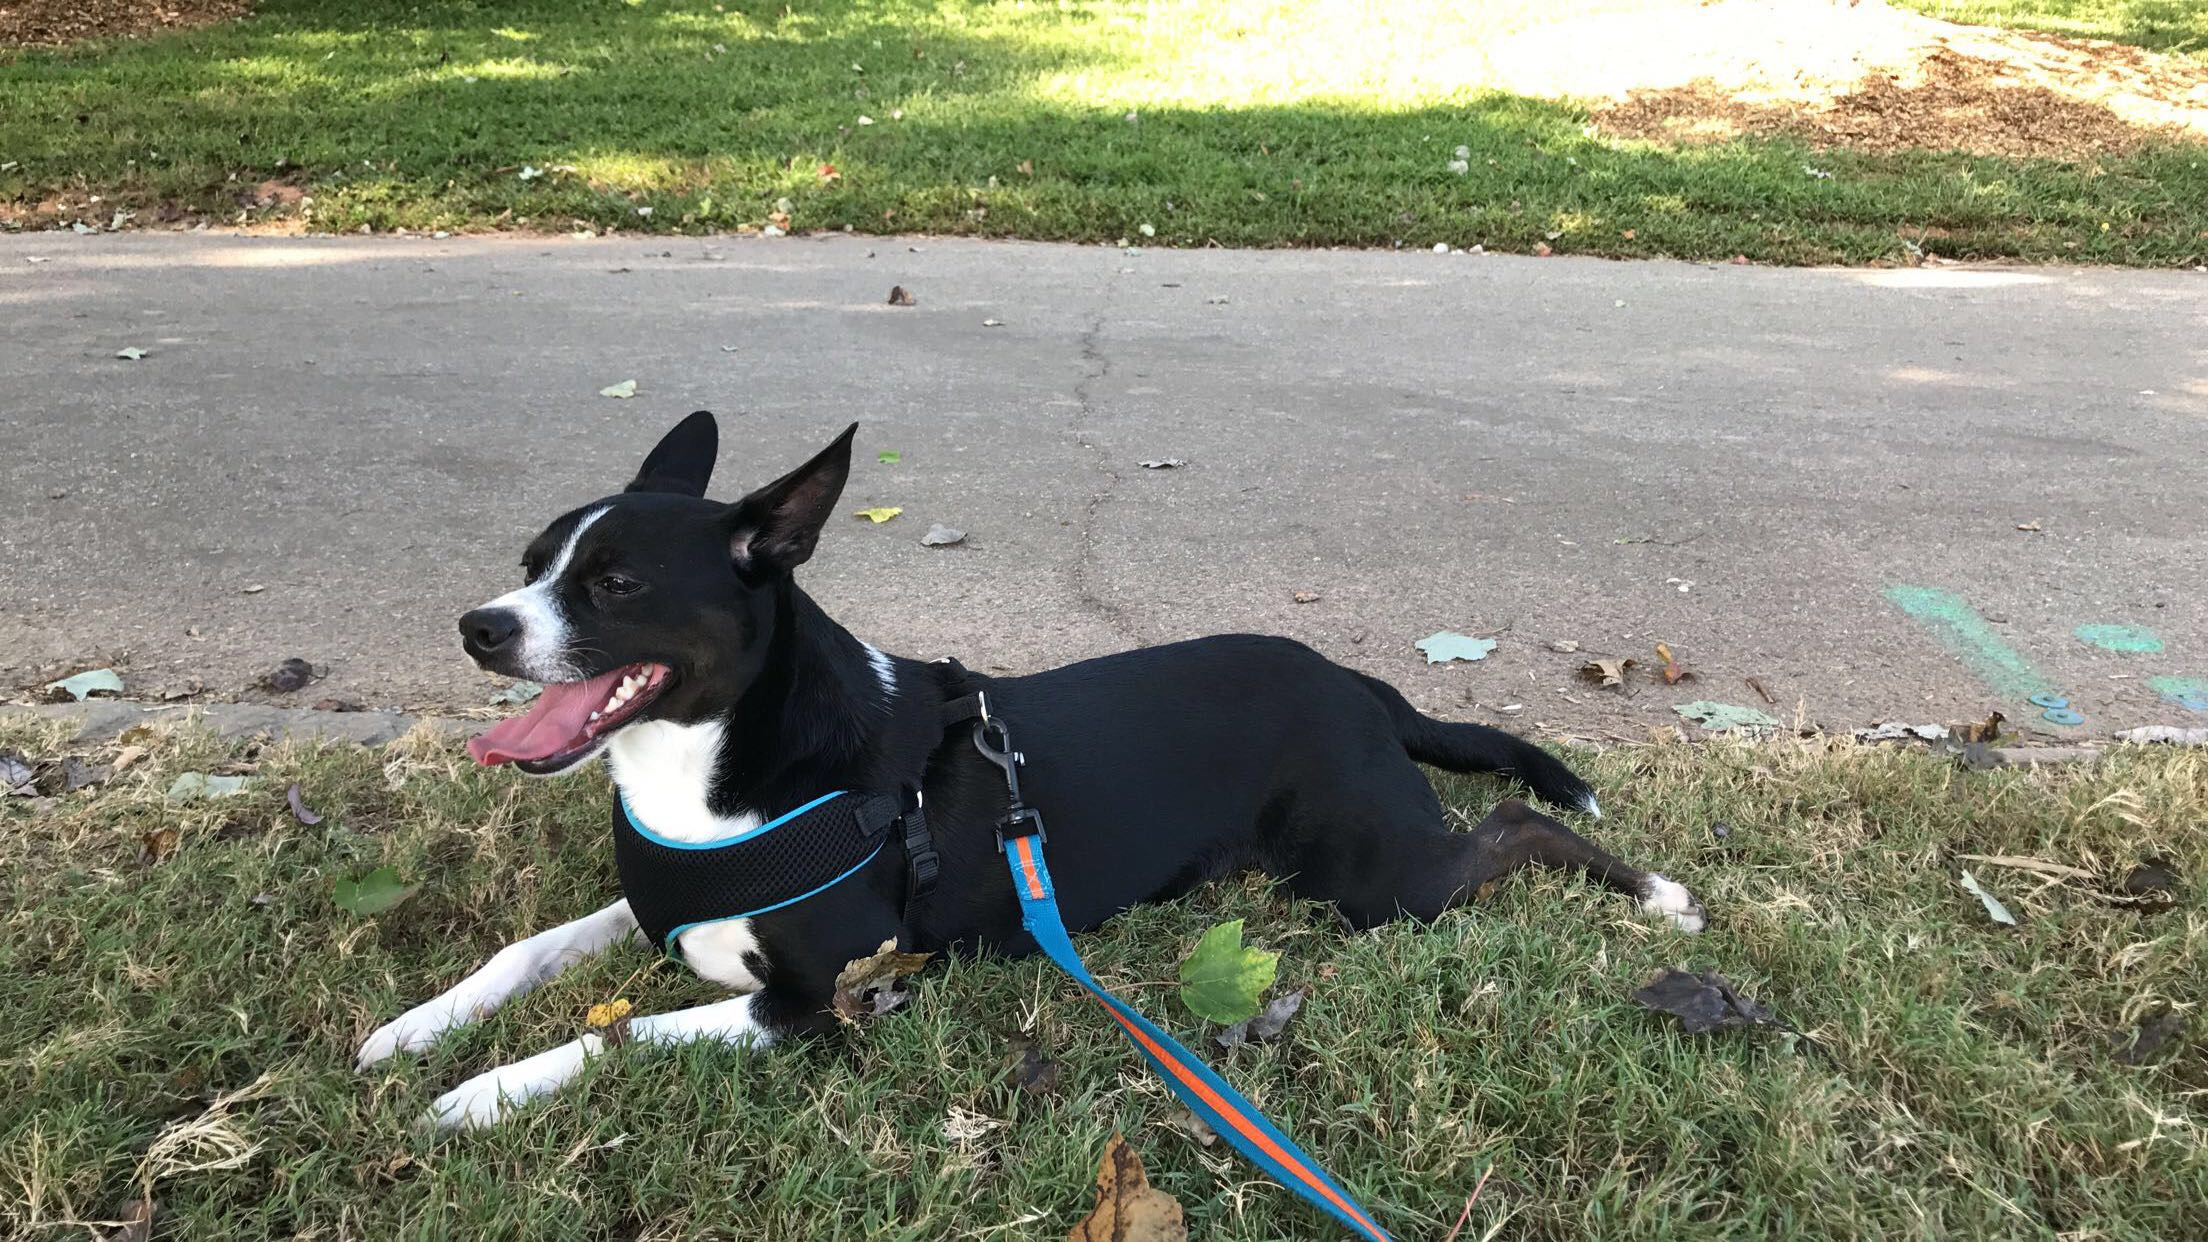Harley: (361, 373, 1721, 1133)
